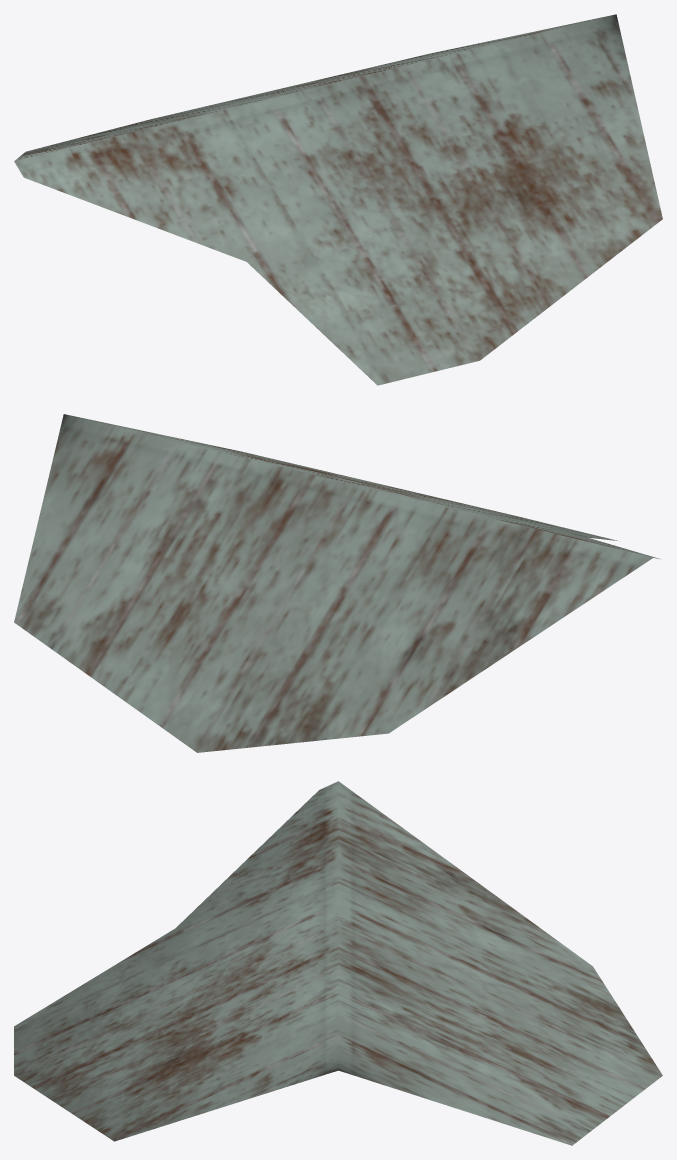
Rendered from House_02_07.fbx.
The picture shows the model from 3 angles, top to bottom: view 1: azimuth 30°, elevation 25°; view 2: azimuth 150°, elevation 25°; view 3: azimuth 270°, elevation 25°; orthographic projection. The views are drawn at different scales.
Parts seen in each view (by area): view 1: Object001.004; view 2: Object001.004; view 3: Object001.004.
Boxes of the visible parts, bbox=[...] form: Object001.004: bbox=[14, 14, 662, 385]; Object001.004: bbox=[14, 414, 660, 752]; Object001.004: bbox=[14, 781, 662, 1145].
Bounding box in the file's own units: 11.74 × 2.83 × 11.12.
Materials: 1 (1 with a texture image).
